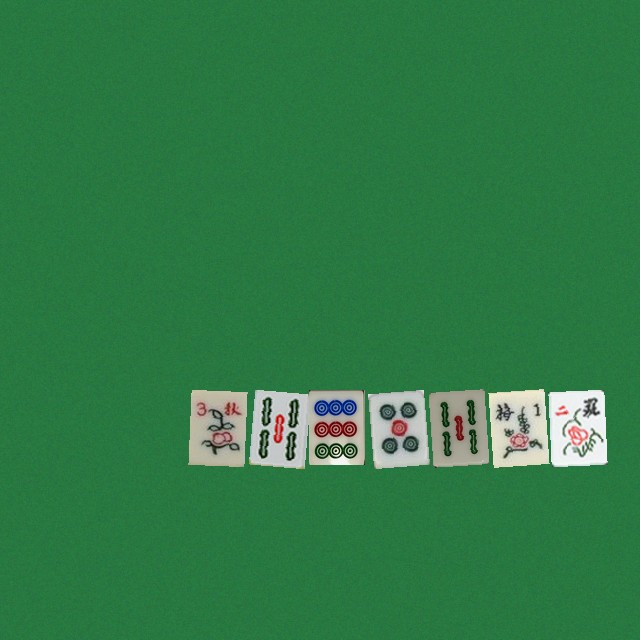tile: (188, 389, 244, 464), (248, 389, 304, 464), (308, 389, 364, 464), (368, 389, 424, 464), (428, 389, 484, 464), (488, 389, 544, 464), (548, 389, 604, 464)
